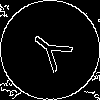Y: (25, 25, 82, 79)
